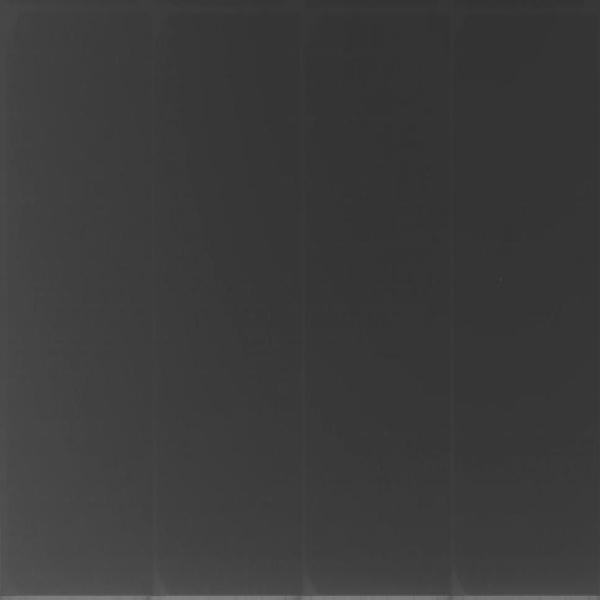no_electricity: (2, 3, 600, 600)
